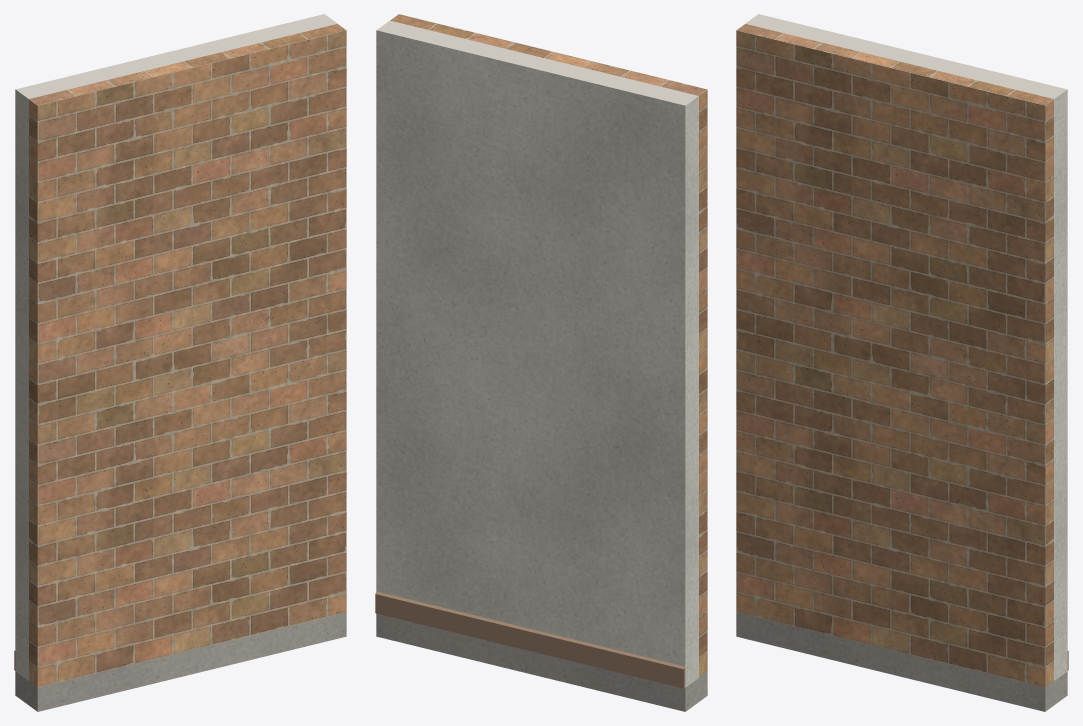
Rendered from b_plain.glb.
The picture shows the model from 3 angles, left to right: view 1: azimuth 30°, elevation 25°; view 2: azimuth 150°, elevation 25°; view 3: azimuth 330°, elevation 25°; orthographic projection.
Visible parts, largest first — view 1: b_plain_brick, b_plain_plaster, b_plain_concrete; view 2: b_plain_plaster, b_plain_brick, b_plain_concrete, b_plain_trim; view 3: b_plain_brick, b_plain_plaster, b_plain_concrete.
Boxes of the visible parts, x1=… form: b_plain_brick: x1=29, y1=24, x2=346, y2=687; b_plain_plaster: x1=15, y1=14, x2=337, y2=680; b_plain_concrete: x1=15, y1=612, x2=346, y2=711; b_plain_plaster: x1=376, y1=20, x2=698, y2=687; b_plain_brick: x1=390, y1=14, x2=707, y2=677; b_plain_concrete: x1=376, y1=613, x2=707, y2=711; b_plain_trim: x1=375, y1=591, x2=685, y2=688; b_plain_brick: x1=736, y1=24, x2=1053, y2=687; b_plain_plaster: x1=745, y1=14, x2=1067, y2=680; b_plain_concrete: x1=736, y1=612, x2=1067, y2=711.
Size of the model in its own units: 2 by 3.75 by 0.266.
Materials: 4 (3 with a texture image).
